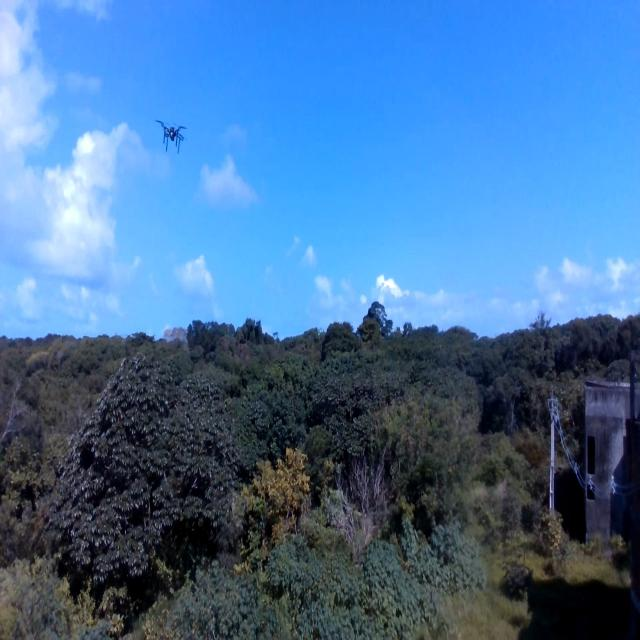-uav-: (145, 101, 203, 175)
